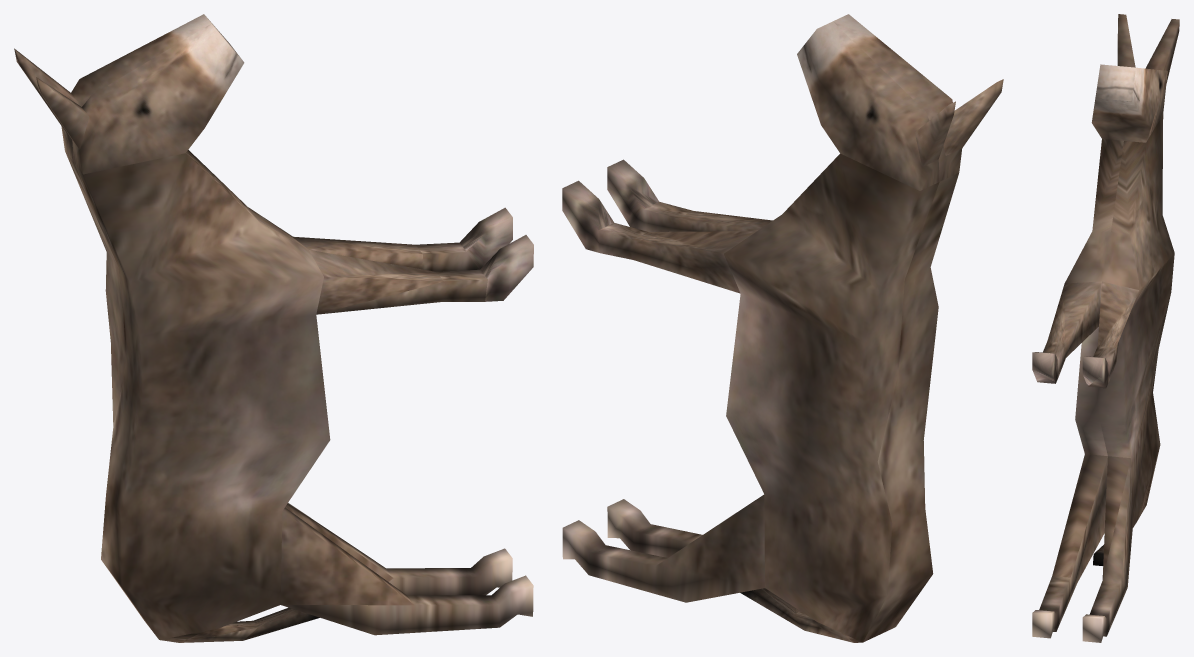
File: donkey_22.fbx
The picture shows the model from 3 angles, left to right: view 1: azimuth 30°, elevation 25°; view 2: azimuth 150°, elevation 25°; view 3: azimuth 270°, elevation 25°; orthographic projection. The views are drawn at different scales.
Visible parts, largest first — view 1: donkey_22; view 2: donkey_22; view 3: donkey_22.
Boxes of the visible parts, x1=… form: donkey_22: x1=14, y1=14, x2=533, y2=642; donkey_22: x1=562, y1=14, x2=1003, y2=642; donkey_22: x1=1032, y1=14, x2=1179, y2=642.
Size of the model in its own units: 27.27 by 35.73 by 10.03.
